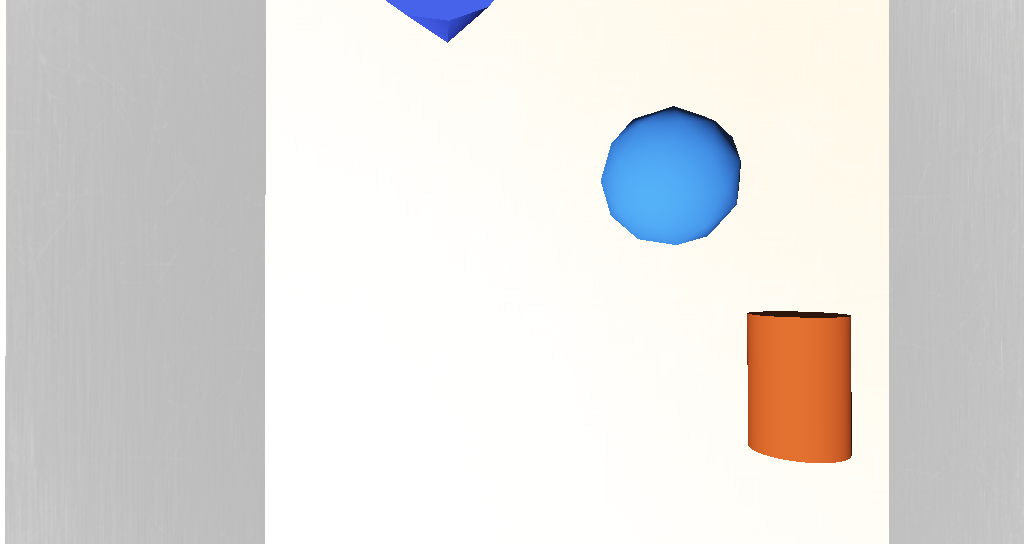cone: (579, 282, 633, 329)
cylinder: (397, 150, 478, 212)
sphere: (512, 217, 579, 260)
